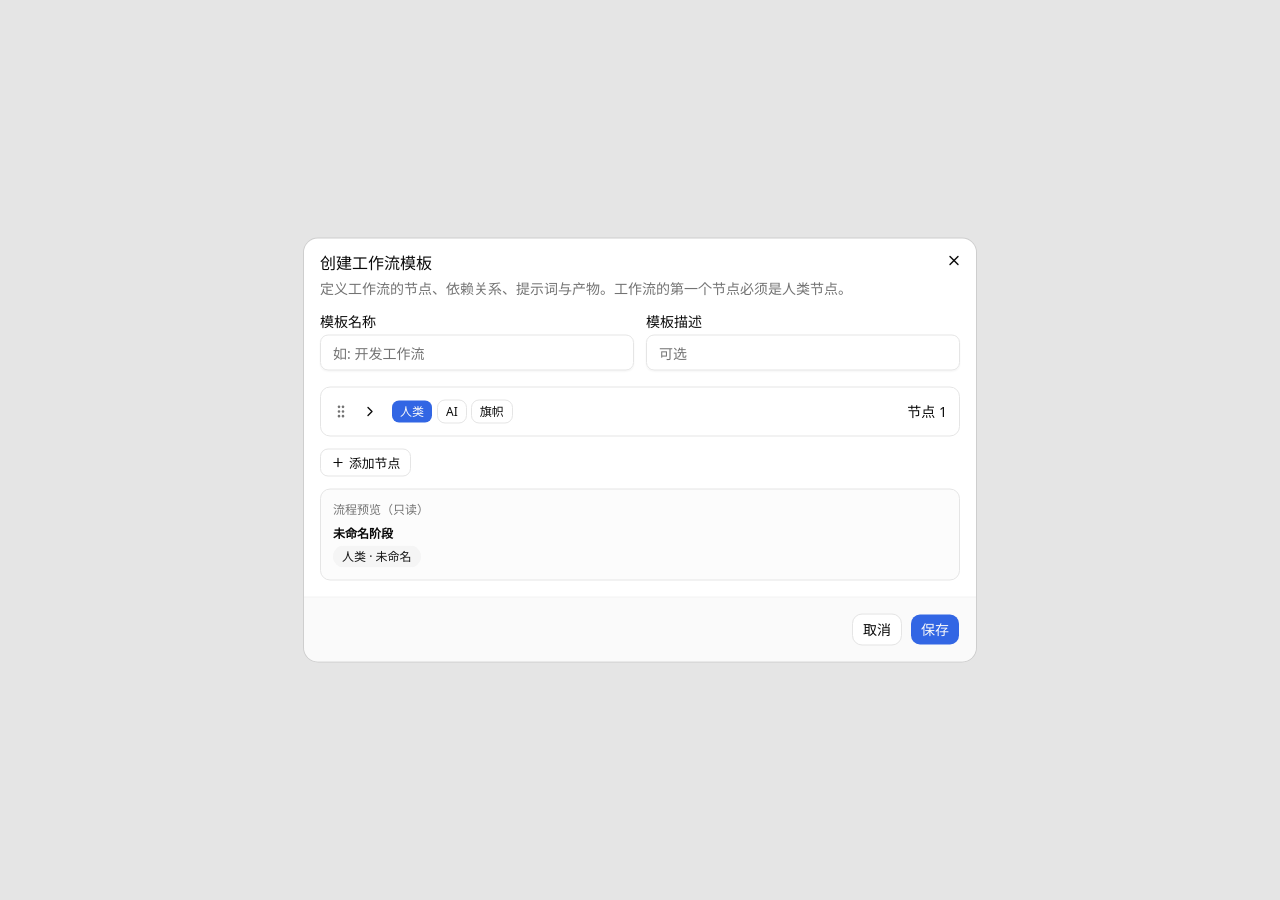
it: TemplateEditorDialog › 流程预览按阶段分组展示节点
The image size is (1280, 900).
Click the button named "展开节点 1" at (370, 412), box [353,400,387,424]
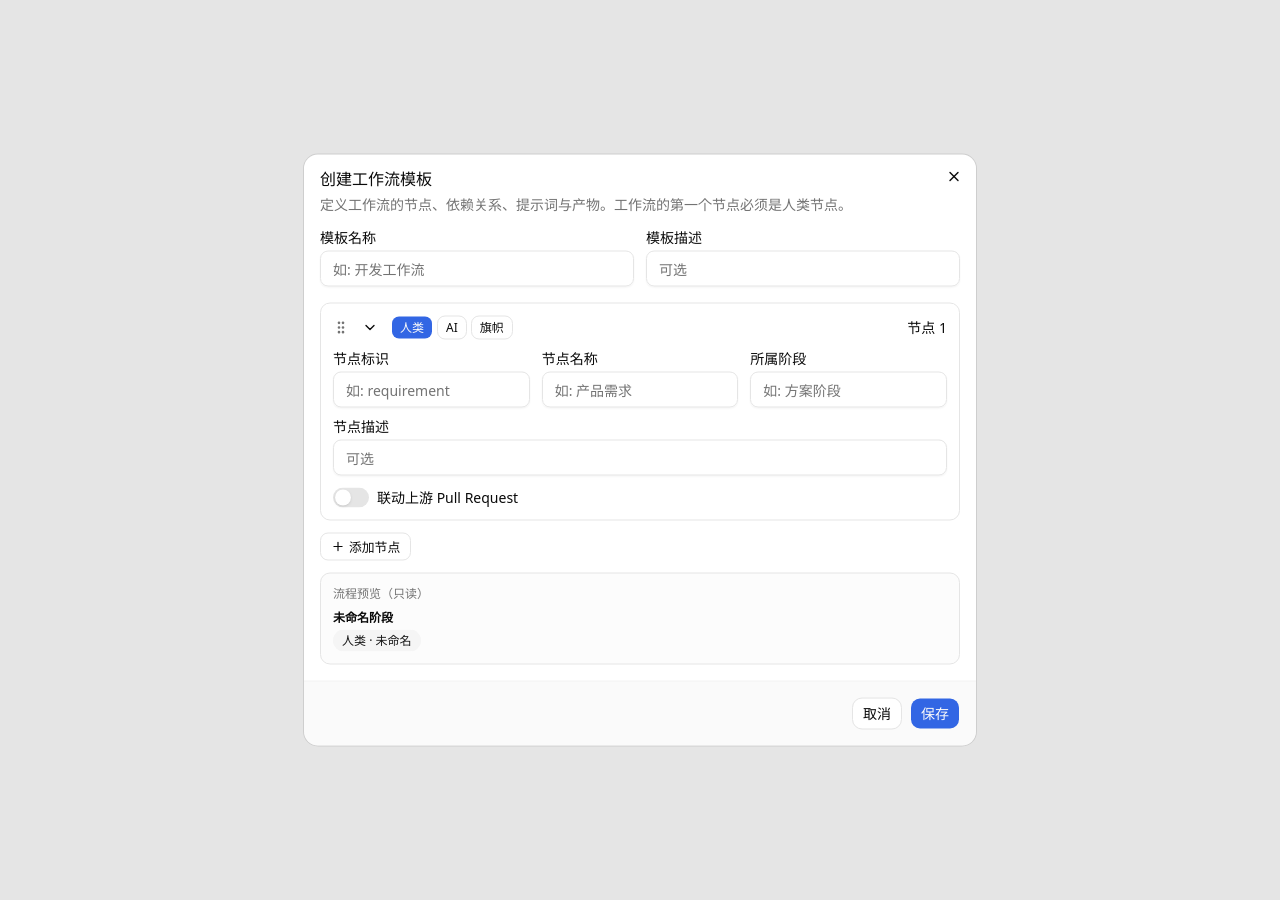
Type "requirement" into the field named "节点 1 标识" at (431, 390), box [333,372,530,408]
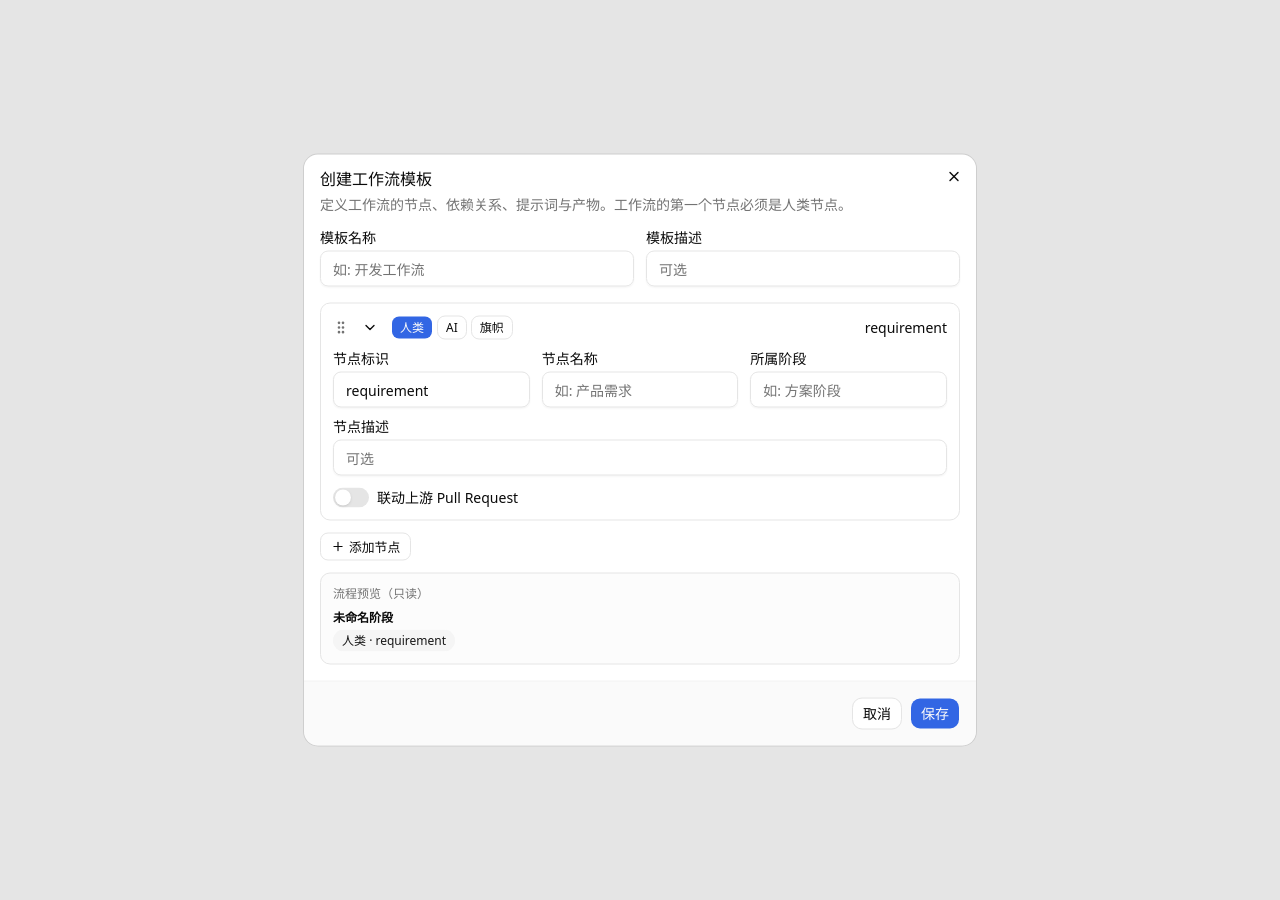
Type "产品需求" into the field named "节点 1 名称" at (640, 390), box [542,372,738,408]
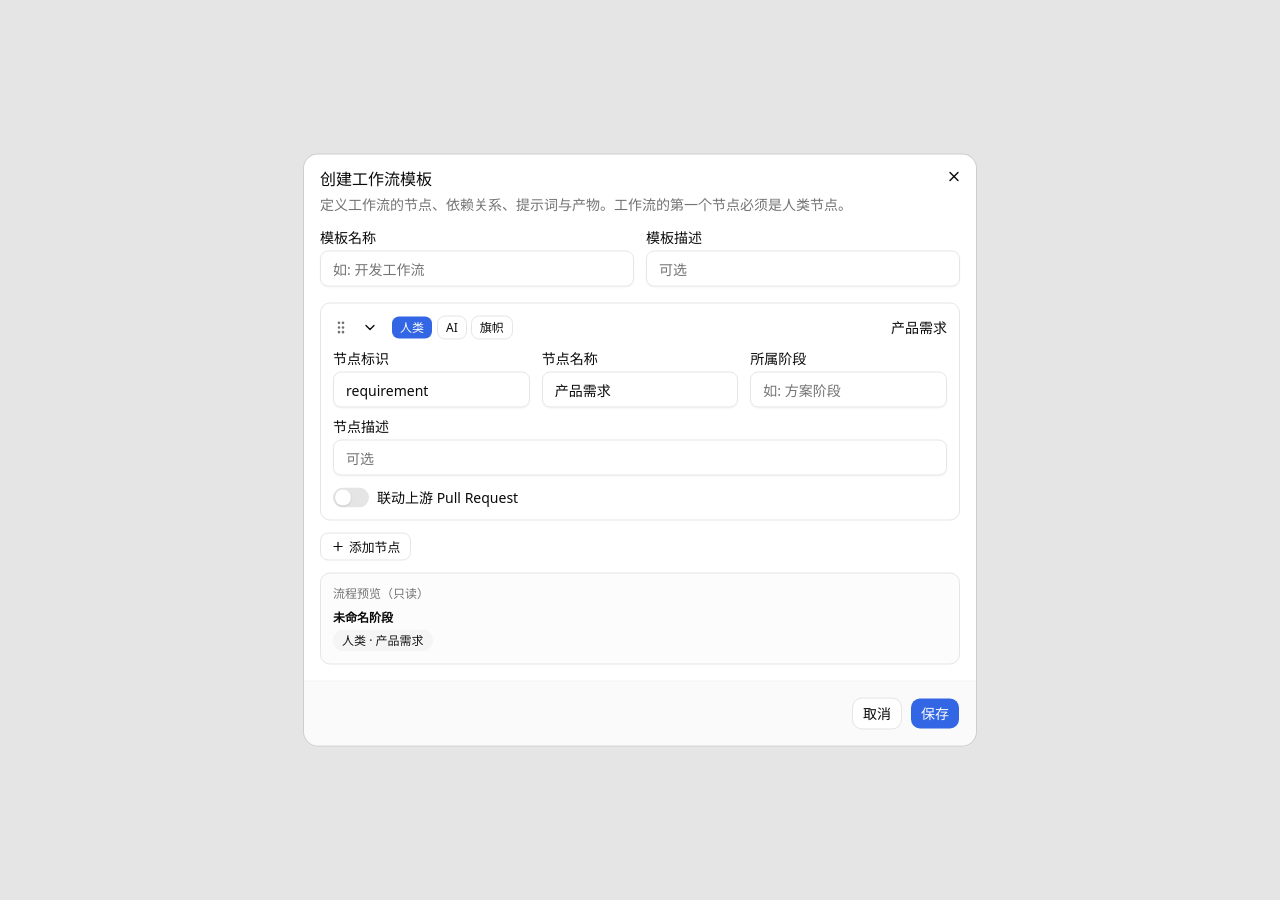
Type "方案阶段" into the field named "节点 1 阶段" at (849, 390), box [750,372,947,408]
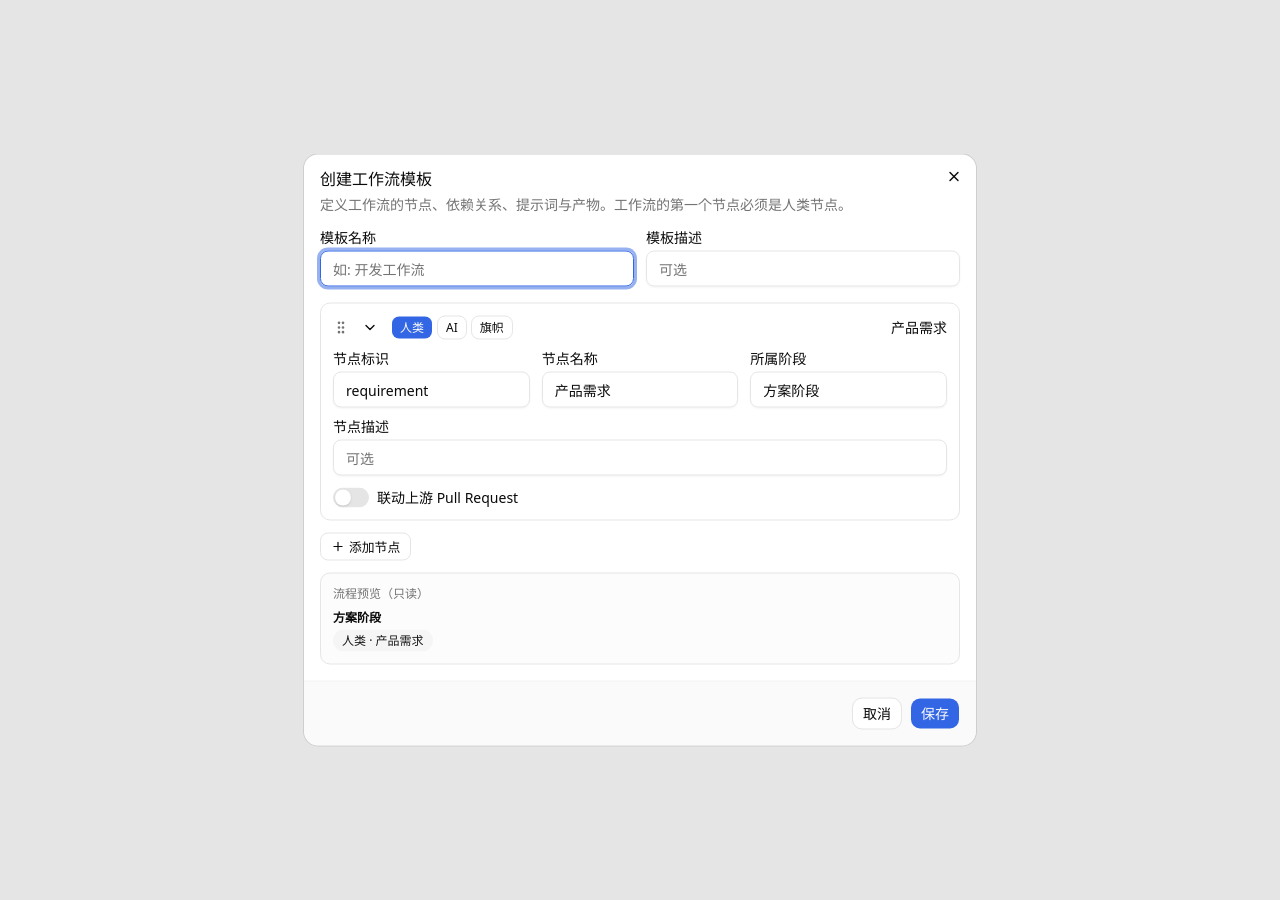
Expected: the element with test id "flow-preview" shows "流程预览（只读）", [333,584,429,602]
Expected: the element with test id "flow-preview" shows "产品需求", [376,632,424,648]
Expected: the element with test id "flow-preview" shows "方案阶段", [333,608,381,626]
